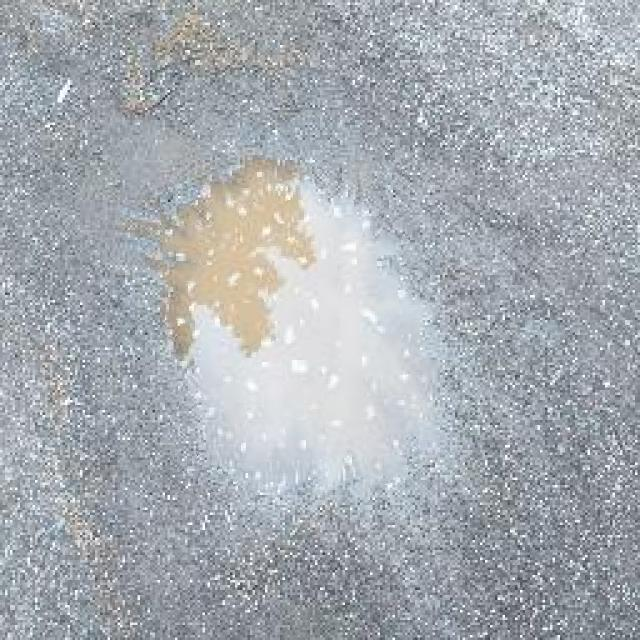puddle: (164, 163, 418, 492)
